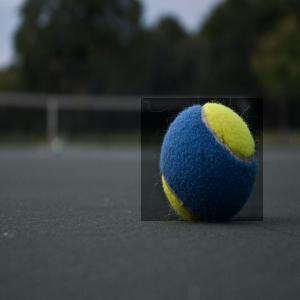TennisBall: (142, 99, 265, 223), (142, 100, 264, 224)
